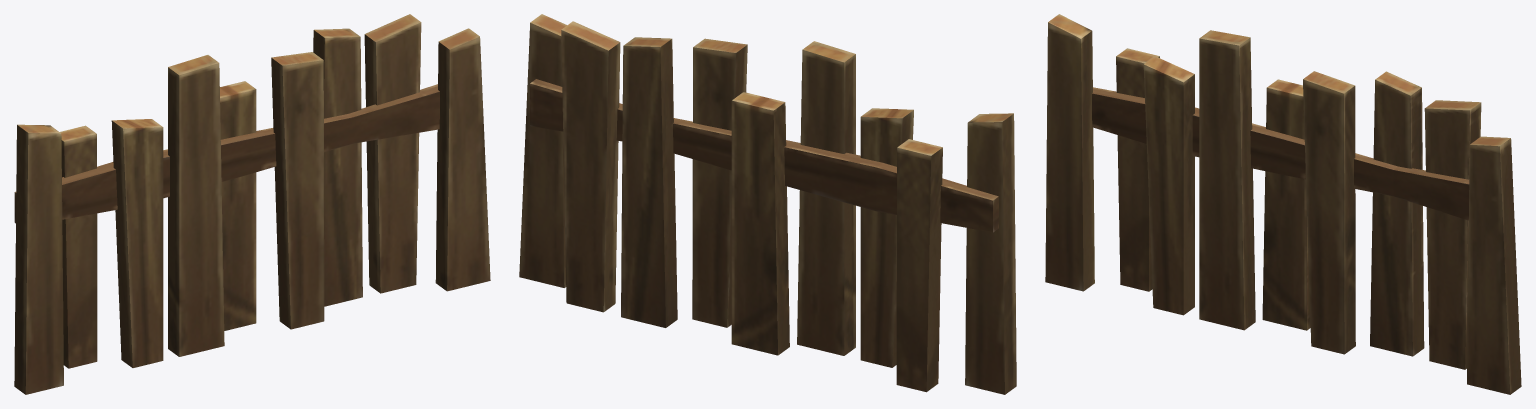
File: Stage_CaoYuan_LiBa01.FBX
3 views of the same model, side by side, from view 1: azimuth 30°, elevation 25°; view 2: azimuth 150°, elevation 25°; view 3: azimuth 330°, elevation 25° (orthographic). The views are drawn at different scales.
Parts seen in each view (by area): view 1: Stage_CaoYuan_LiBa01; view 2: Stage_CaoYuan_LiBa01; view 3: Stage_CaoYuan_LiBa01.
Boxes of the visible parts, box(x1,y1,x2,y2) form: Stage_CaoYuan_LiBa01: box(14, 14, 490, 394); Stage_CaoYuan_LiBa01: box(519, 14, 1016, 394); Stage_CaoYuan_LiBa01: box(1045, 14, 1521, 394).
Bounding box in the file's own units: 205 × 120 × 20.93.
